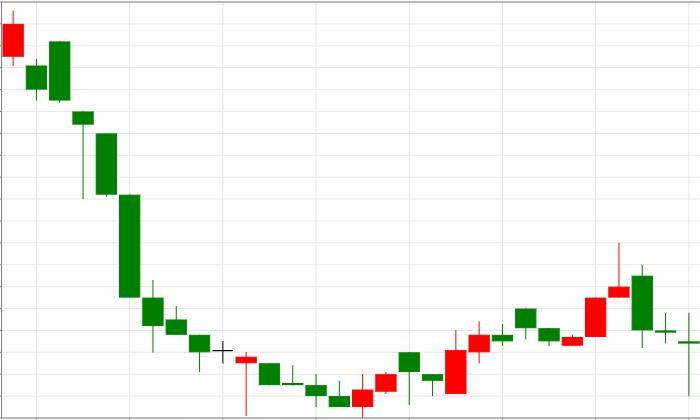bullish_engulfing_rise: (27, 40, 373, 419)
